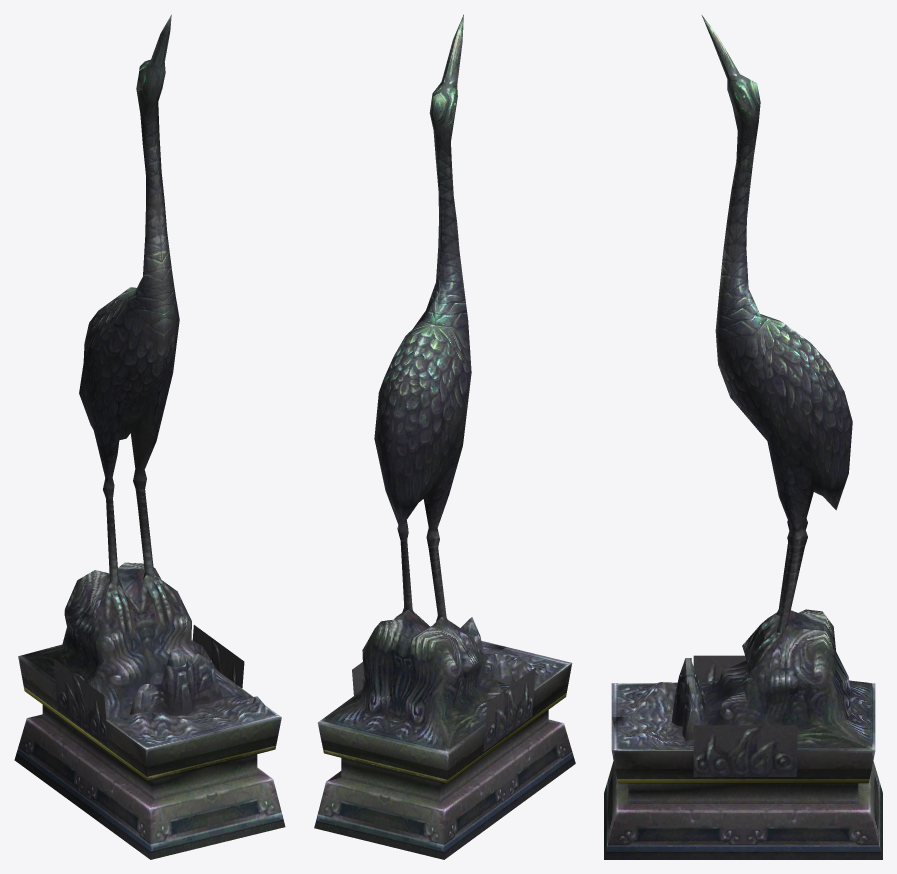
File: environment_Building_xianhe_01_a.FBX
The picture shows the model from 3 angles, left to right: view 1: azimuth 30°, elevation 25°; view 2: azimuth 150°, elevation 25°; view 3: azimuth 270°, elevation 25°; orthographic projection. The views are drawn at different scales.
Visible parts, largest first — view 1: environment_Building_xianhe_01_b0, environment_Building_xianhe_01_a0; view 2: environment_Building_xianhe_01_b0, environment_Building_xianhe_01_a0; view 3: environment_Building_xianhe_01_b0, environment_Building_xianhe_01_a0.
Boxes of the visible parts, bbox=[...] form: environment_Building_xianhe_01_b0: bbox=[14, 562, 285, 859]; environment_Building_xianhe_01_a0: bbox=[79, 14, 179, 588]; environment_Building_xianhe_01_b0: bbox=[314, 609, 575, 859]; environment_Building_xianhe_01_a0: bbox=[374, 14, 471, 621]; environment_Building_xianhe_01_b0: bbox=[604, 609, 882, 859]; environment_Building_xianhe_01_a0: bbox=[701, 15, 852, 637].
Bounding box in the file's own units: 57.62 × 312 × 97.06.
